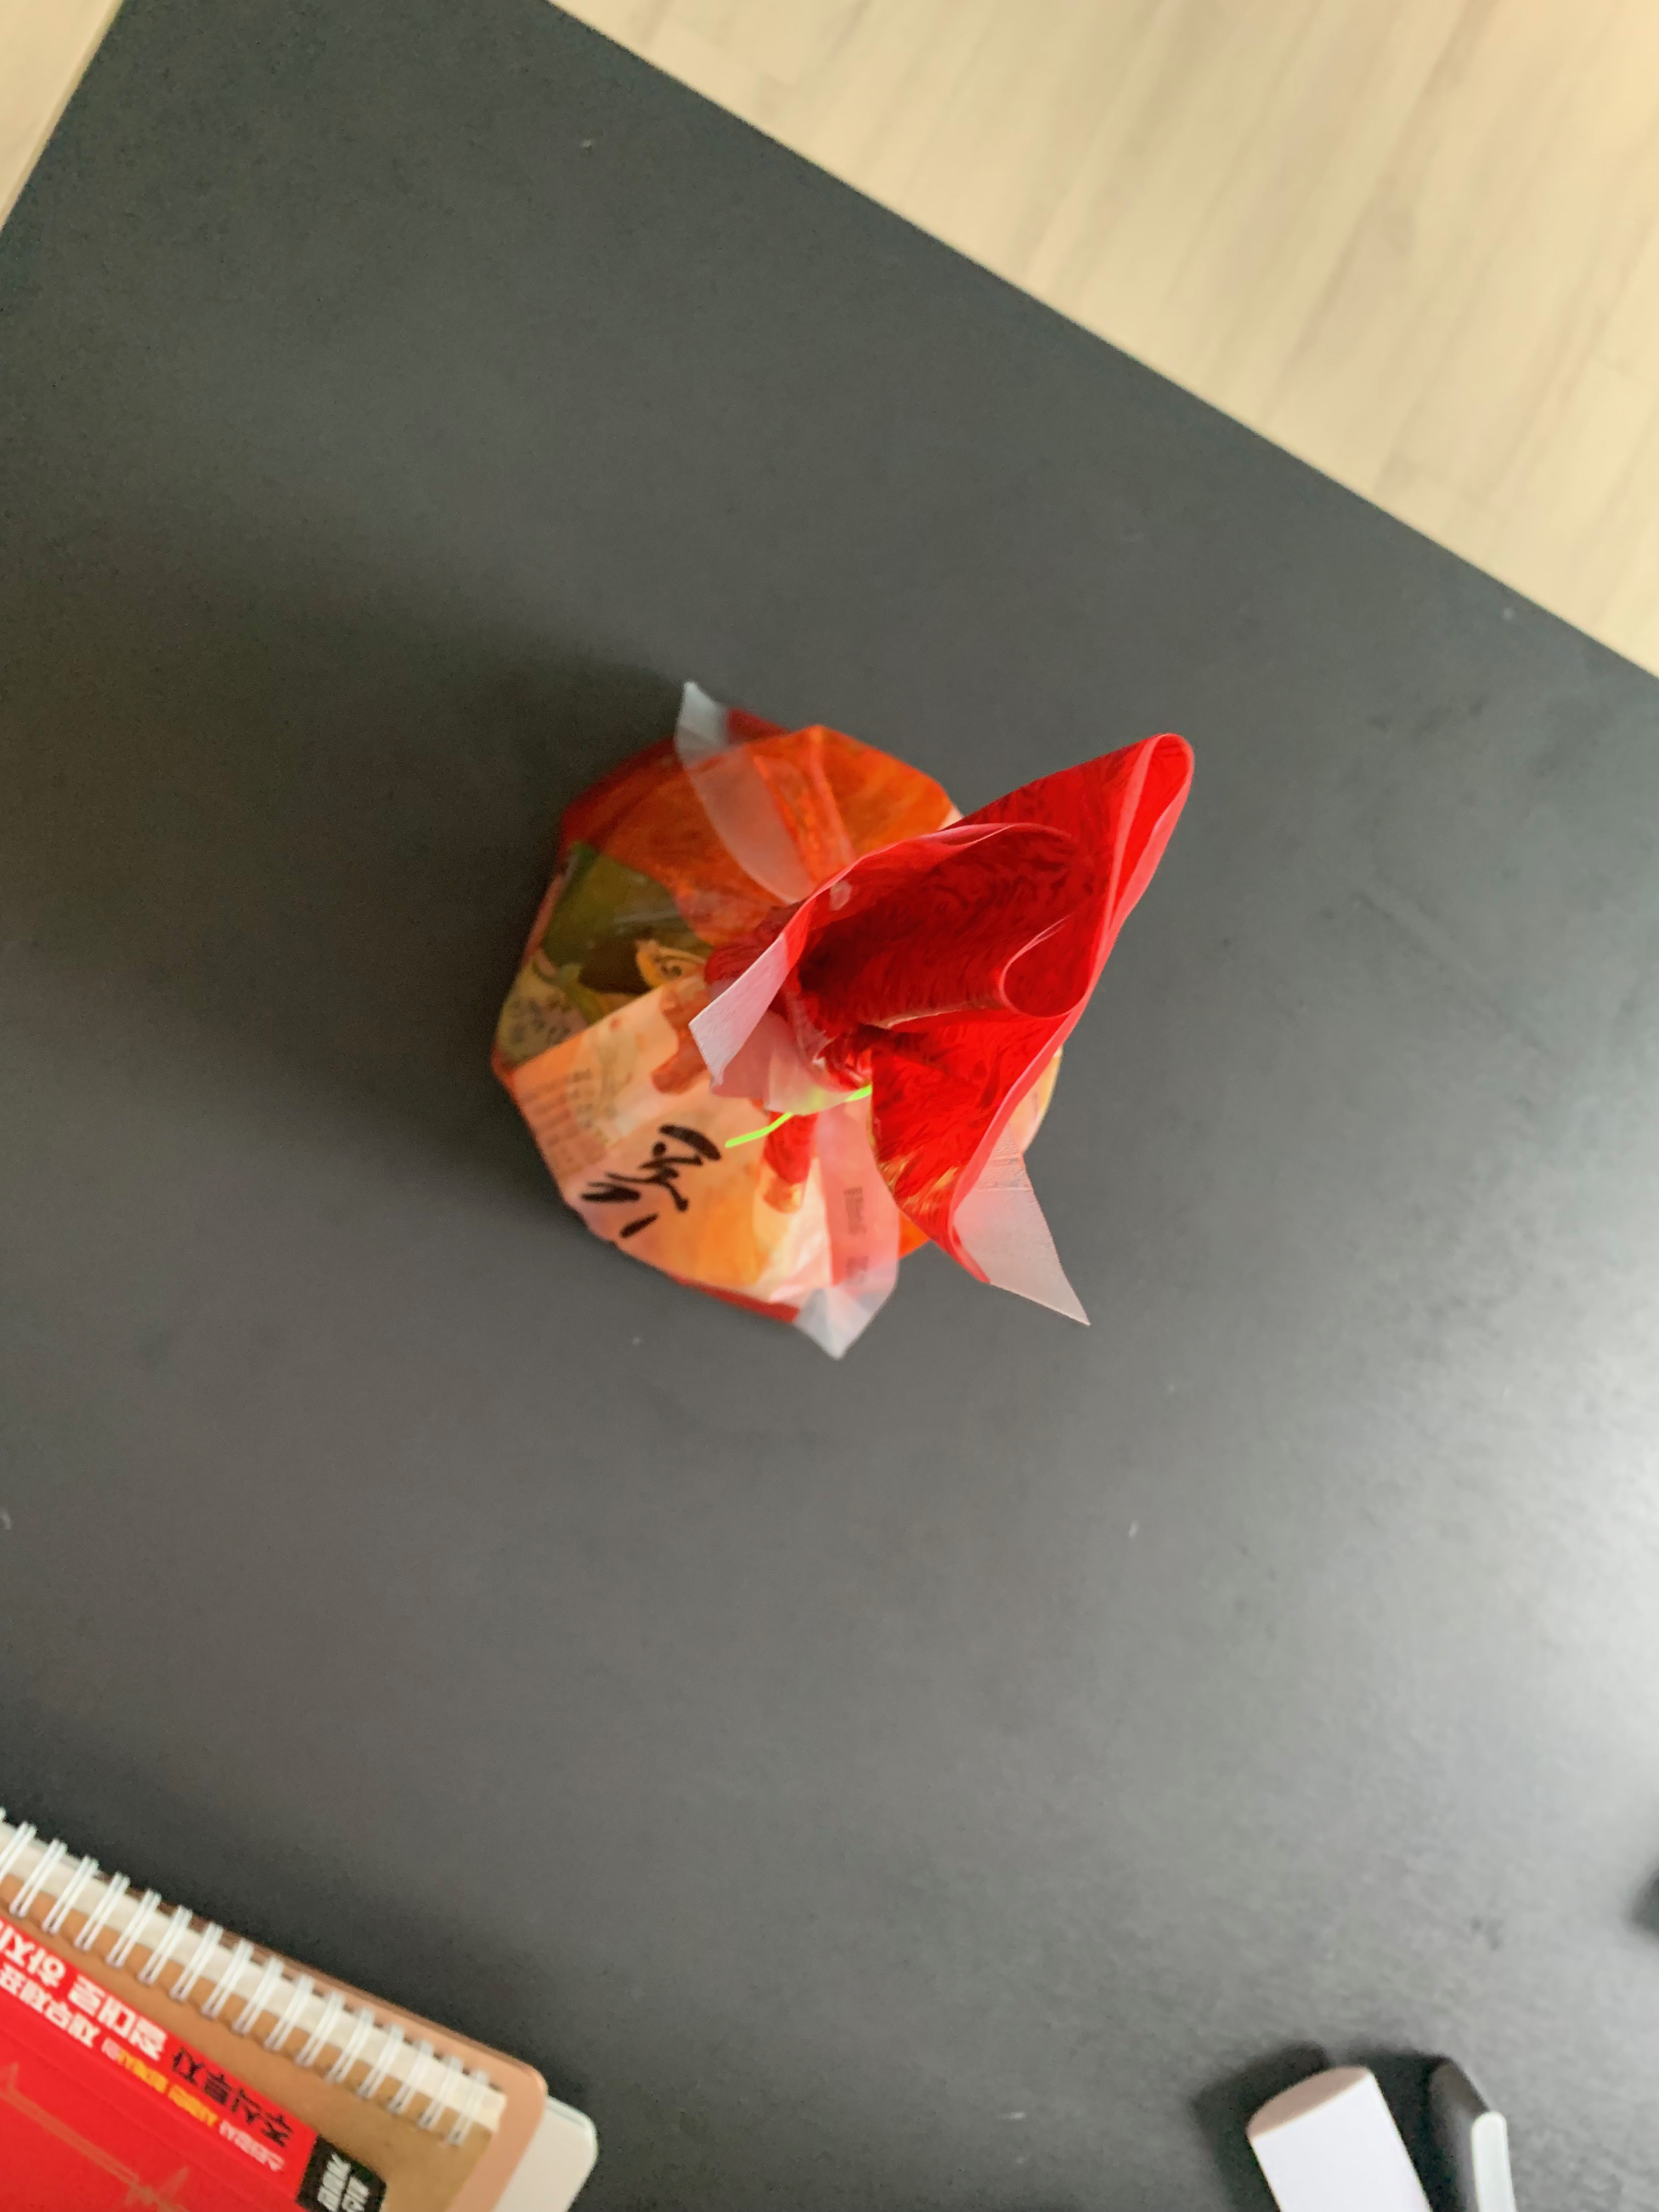kimchi: (509, 728, 1199, 1317)
